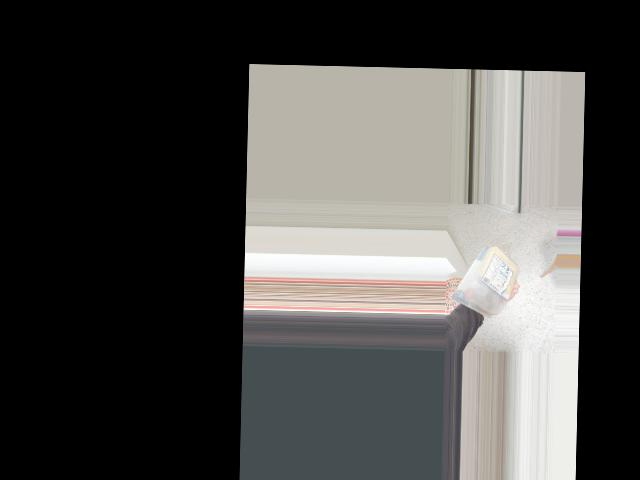cheese: (447, 240, 525, 321)
